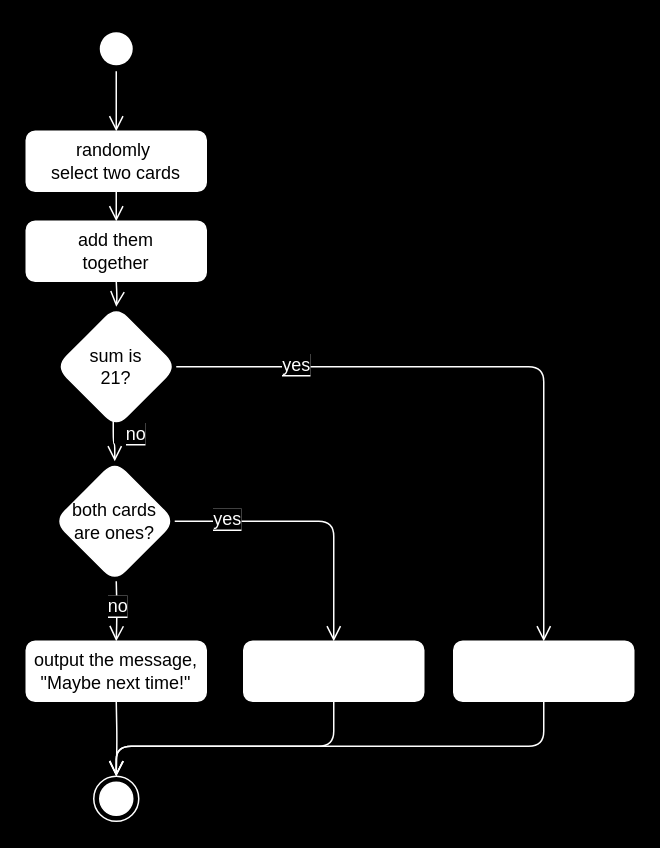
Some shapes in this 660 by 848 pixel diagram are drawn without their labels. Here are the shapes that lost their labels. From the top down, the box of each, then its label:
(242, 640, 424, 701): output the message, "Snake eyes!"
(452, 640, 634, 701): output the message, "Blackjack!"
